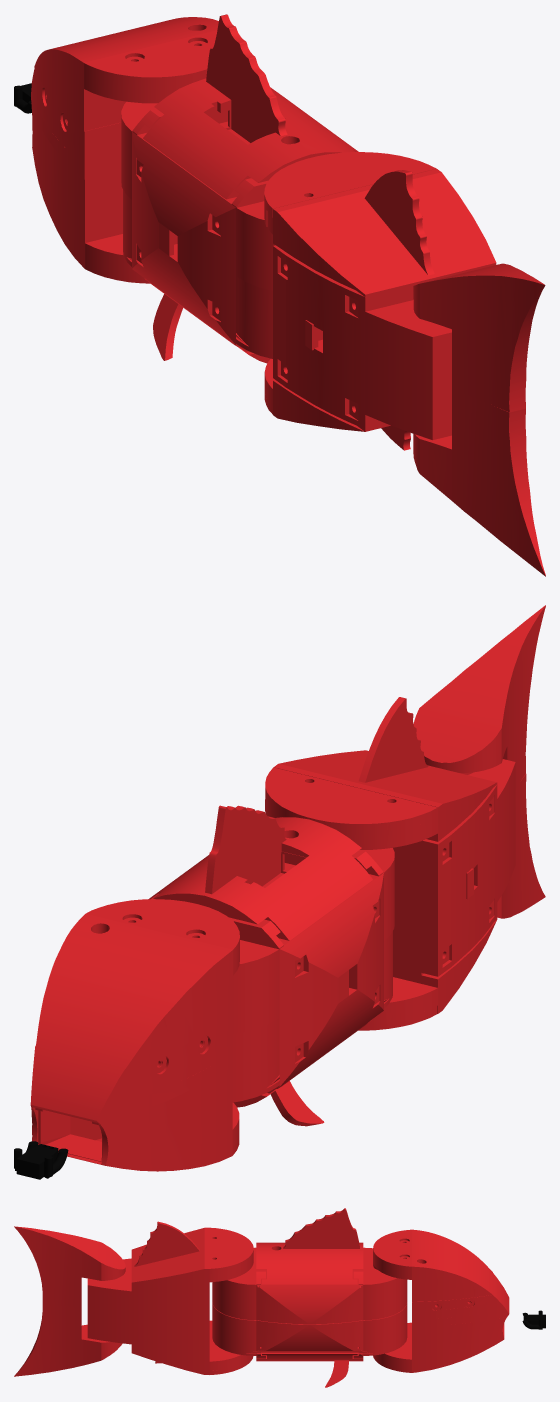
The picture shows the model from 3 angles, top to bottom: view 1: azimuth 30°, elevation 25°; view 2: azimuth 150°, elevation 25°; view 3: azimuth 270°, elevation 25°; orthographic projection. The views are drawn at different scales.
Visible parts, largest first — view 1: gyobot.001; view 2: gyobot.001, gyobot; view 3: gyobot.001, gyobot.
Boxes of the visible parts, x1,y1,x2,y2 form: gyobot.001: [31, 14, 545, 576]; gyobot.001: [30, 605, 545, 1171]; gyobot: [14, 1141, 68, 1179]; gyobot.001: [14, 1208, 509, 1387]; gyobot: [522, 1310, 545, 1329].
Bounding box in the file's own units: 11.1 × 18.96 × 54.57.
